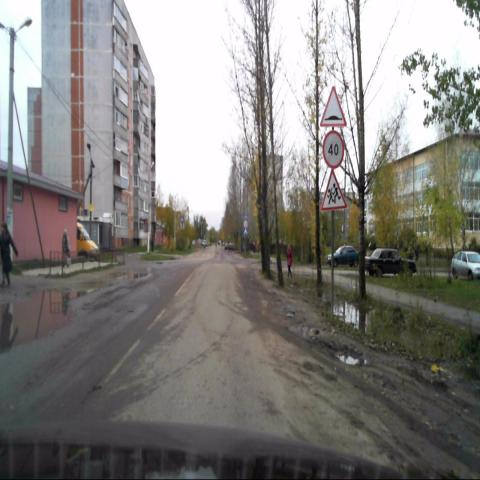1_17: (320, 84, 348, 128)
